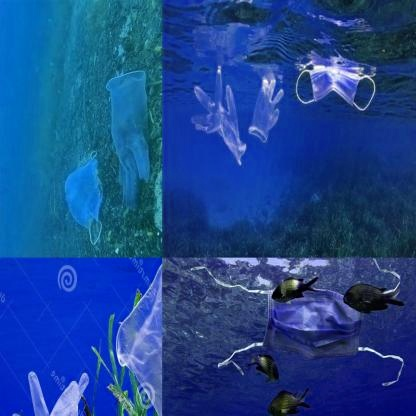Mask: (192, 258, 411, 394), (285, 52, 386, 127), (64, 149, 102, 244)
glove: (116, 259, 162, 416), (188, 66, 247, 173), (110, 68, 150, 212), (0, 352, 87, 416), (245, 62, 286, 145)
